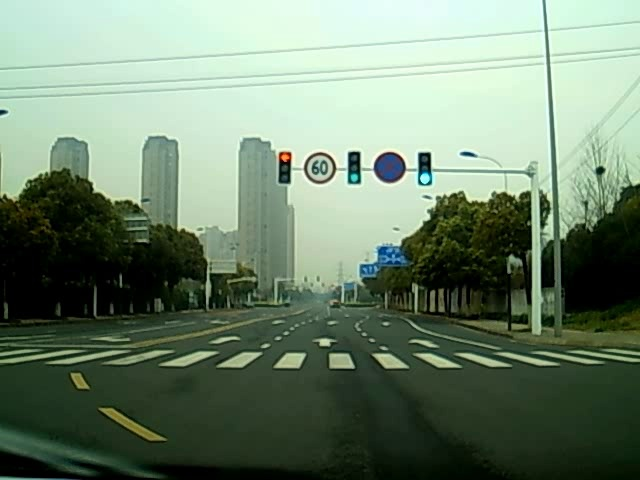Traffic_Light_go: (418, 152, 432, 187), (347, 153, 360, 185)
Traffic_Light_stop: (277, 152, 292, 185)
